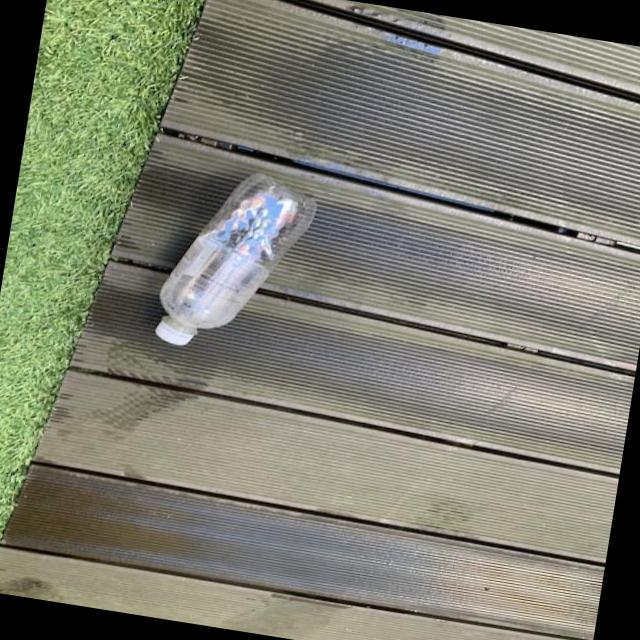plastic_bottle: (152, 160, 322, 363)
